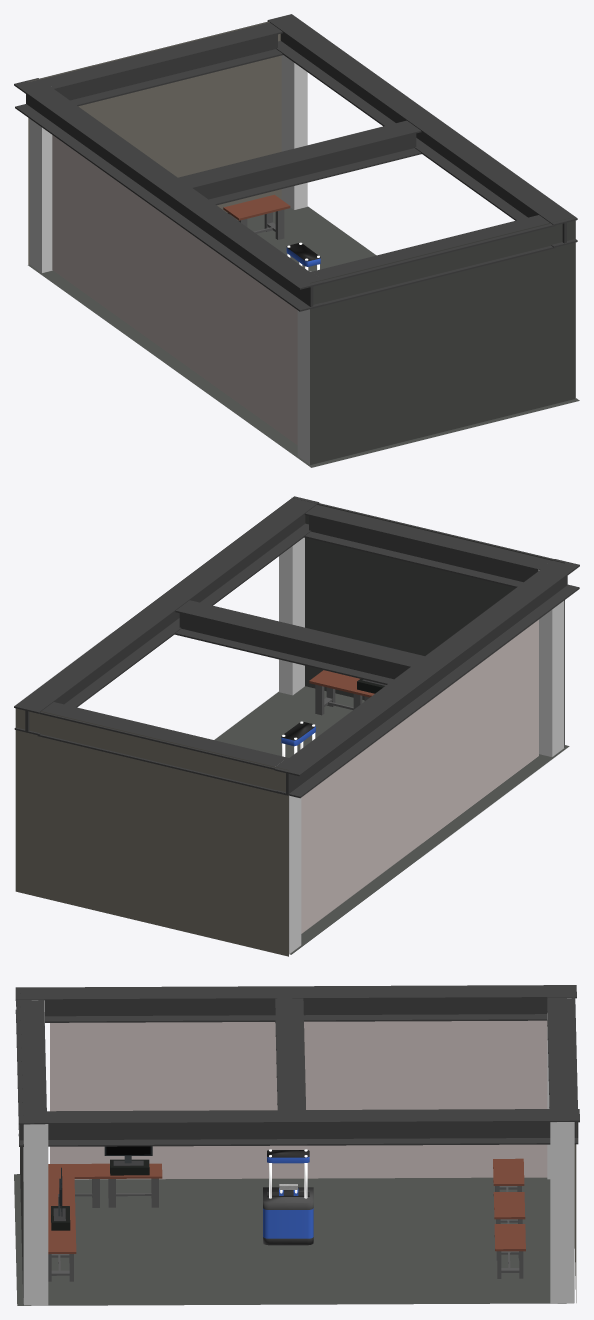
File: laboratorio-flexion.gltf
3 views of the same model, one above another, from view 1: azimuth 30°, elevation 25°; view 2: azimuth 150°, elevation 25°; view 3: azimuth 270°, elevation 25° (orthographic).
Visible parts, largest first — view 1: Vigas_Amarre, ParedFondo, ParedIzquierda.005, ParedDerecha, Piso, Columna3, Columna4, Columna2, Mesa.Lab3; view 2: ParedDerecha, Vigas_Amarre, ParedIzquierda.005, ParedFondo, Piso, Columna2, Columna1, Columna3, Mesa.Lab8; view 3: Piso, ParedIzquierda.005, Vigas_Amarre, Columna1, Columna4, Plane.003, Mesa.Lab3, Computador1, Mesa.Lab8, Mesa.Lab5, Mesa.Lab4, Mesa.Lab1 (+6 smaller).
Boxes of the visible parts, <box> form: Vigas_Amarre: <box>14,14,577,311</box>; ParedFondo: <box>310,216,575,464</box>; ParedIzquierda.005: <box>52,135,297,444</box>; ParedDerecha: <box>28,21,281,264</box>; Piso: <box>28,206,579,467</box>; Columna3: <box>29,119,52,272</box>; Columna4: <box>281,55,307,209</box>; Columna2: <box>297,271,311,464</box>; Mesa.Lab3: <box>223,194,290,239</box>; ParedDerecha: <box>15,708,288,956</box>; Vigas_Amarre: <box>14,496,579,798</box>; ParedIzquierda.005: <box>301,619,538,933</box>; ParedFondo: <box>293,498,564,747</box>; Piso: <box>214,686,569,954</box>; Columna2: <box>538,569,564,756</box>; Columna1: <box>279,537,304,695</box>; Columna3: <box>275,766,301,954</box>; Mesa.Lab8: <box>309,670,367,715</box>; Piso: <box>14,1174,573,1305</box>; ParedIzquierda.005: <box>50,1020,547,1179</box>; Vigas_Amarre: <box>15,985,579,1146</box>; Columna1: <box>23,1124,48,1305</box>; Columna4: <box>550,1122,574,1303</box>; Plane.003: <box>263,1187,313,1245</box>; Mesa.Lab3: <box>494,1224,525,1278</box>; Computador1: <box>104,1146,152,1175</box>; Mesa.Lab8: <box>48,1226,76,1281</box>; Mesa.Lab5: <box>48,1163,102,1207</box>; Mesa.Lab4: <box>103,1163,162,1207</box>; Mesa.Lab1: <box>493,1158,524,1191</box>.
Bounding box in the file's own units: 10.6 × 6.51 × 18.2.
Materials: 26 (1 with a texture image).
